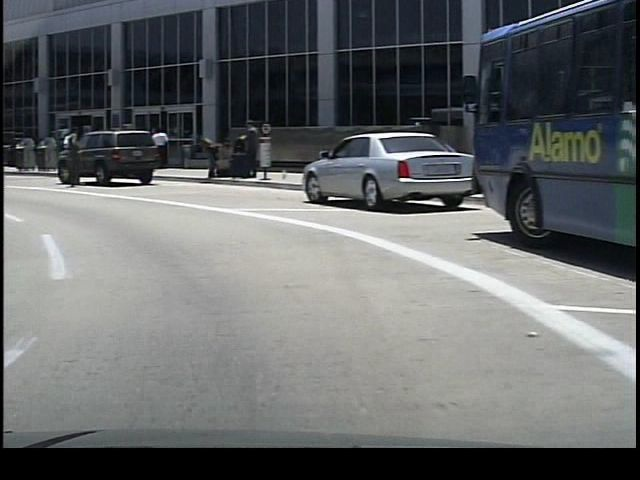person: (57, 117, 86, 195), (197, 131, 226, 185), (235, 120, 255, 180), (145, 127, 167, 171)
